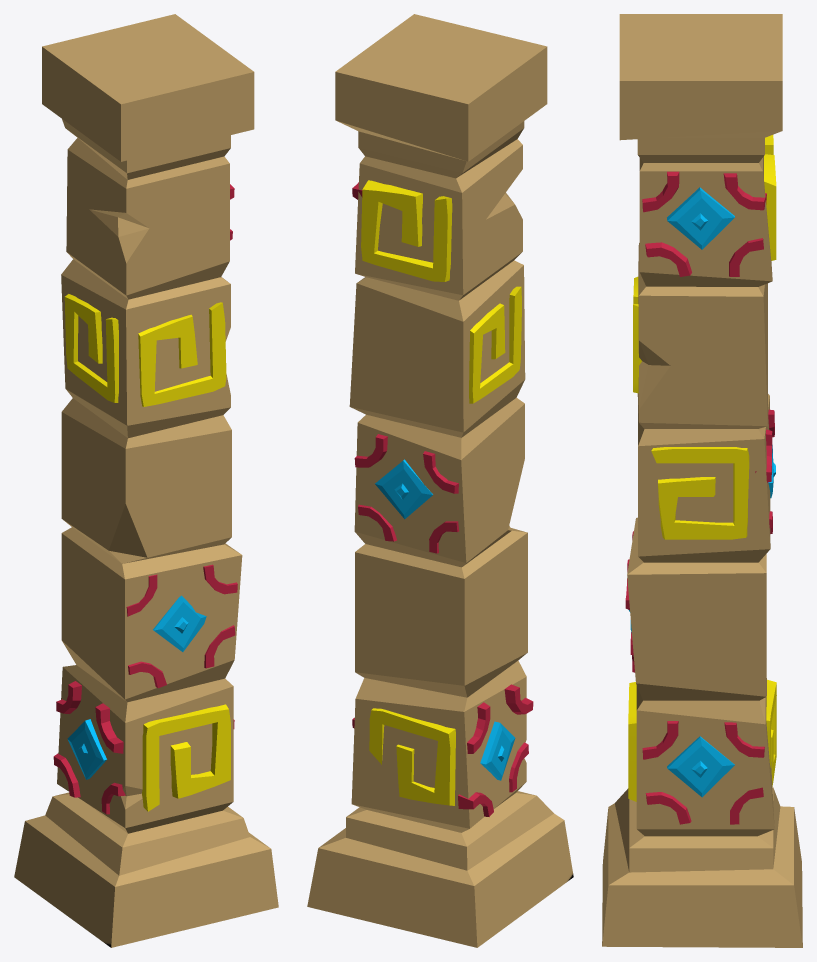
The model's file is Pilar.fbx.
3 renders of one model, left to right at view 1: azimuth 30°, elevation 25°; view 2: azimuth 150°, elevation 25°; view 3: azimuth 270°, elevation 25°, orthographic. The views are drawn at different scales.
Visible parts, largest first — view 1: pCube1, pCube7, pCube6, pCube5, pCube12 (×2), pCube9; view 2: pCube1, pCube4, pCube3, pCube5, pCube12 (×2), pCube9 (×2), pCube8; view 3: pCube1, pCube2, pCube12 (×2), pCube11 (×2), pCube9 (×2), pCube8 (×2), pCube4, pCube7, pCube10 (×2), pCube3, pCube6.
Boxes of the visible parts, left/top/right/bottom form: pCube1: left=14, top=14, right=278, bottom=947; pCube7: left=142, top=704, right=230, bottom=811; pCube6: left=138, top=302, right=226, bottom=406; pCube5: left=64, top=294, right=118, bottom=402; pCube12 (×2): left=67, top=595, right=206, bottom=779; pCube9: left=95, top=703, right=123, bottom=753; pCube1: left=307, top=14, right=573, bottom=947; pCube4: left=361, top=180, right=452, bottom=281; pCube3: left=369, top=708, right=455, bottom=805; pCube5: left=469, top=286, right=521, bottom=403; pCube12 (×2): left=375, top=459, right=515, bottom=780; pCube9 (×2): left=423, top=451, right=533, bottom=714; pCube8: left=467, top=702, right=490, bottom=753; pCube1: left=602, top=14, right=802, bottom=947; pCube2: left=651, top=447, right=749, bottom=539; pCube12 (×2): left=667, top=187, right=734, bottom=797; pCube11 (×2): left=645, top=242, right=691, bottom=824; pCube9 (×2): left=723, top=173, right=766, bottom=757; pCube8 (×2): left=642, top=171, right=679, bottom=759; pCube4: left=764, top=135, right=776, bottom=260; pCube7: left=628, top=682, right=636, bottom=801; pCube10 (×2): left=729, top=238, right=763, bottom=824; pCube3: left=766, top=679, right=776, bottom=786; pCube6: left=633, top=276, right=641, bottom=393.
Size of the model in its own units: 4.21 by 19.7 by 4.18.
Materials: 1 (1 with a texture image).
